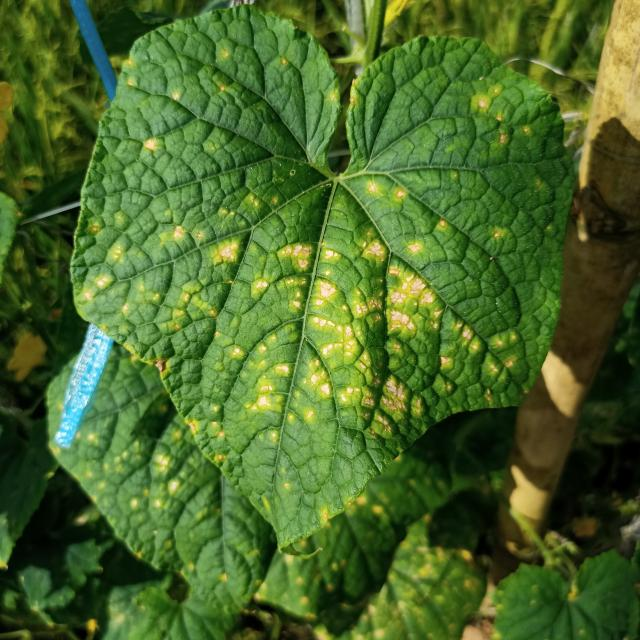disease_cucumber: (90, 47, 544, 509)
